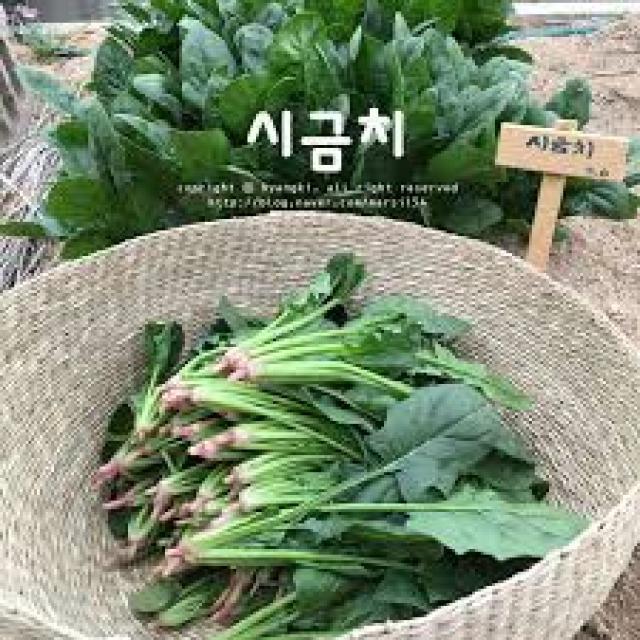spinach: (94, 256, 589, 640)
